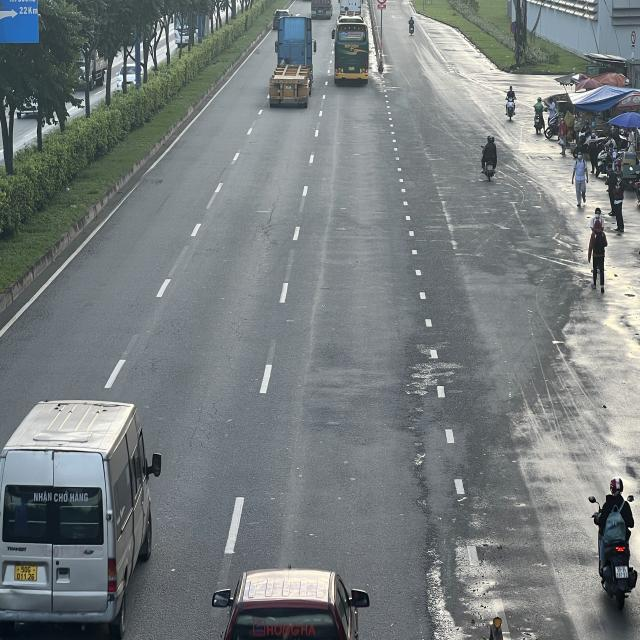coach: (332, 16, 371, 86)
container: (270, 14, 318, 109)
van: (0, 396, 156, 633)
